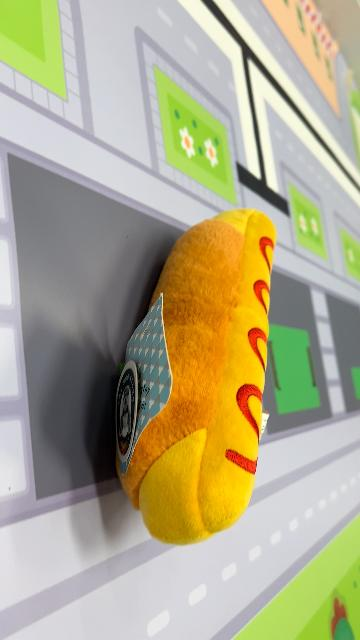hotdog: (113, 207, 279, 548)
